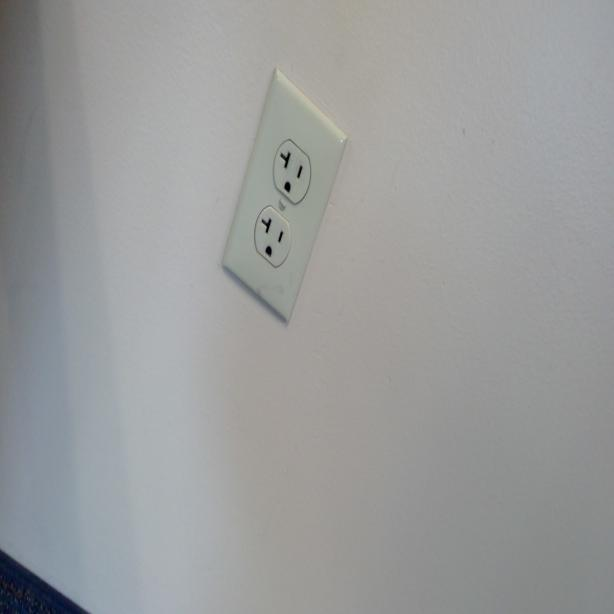typeb: (274, 140, 308, 196), (257, 207, 289, 265)
